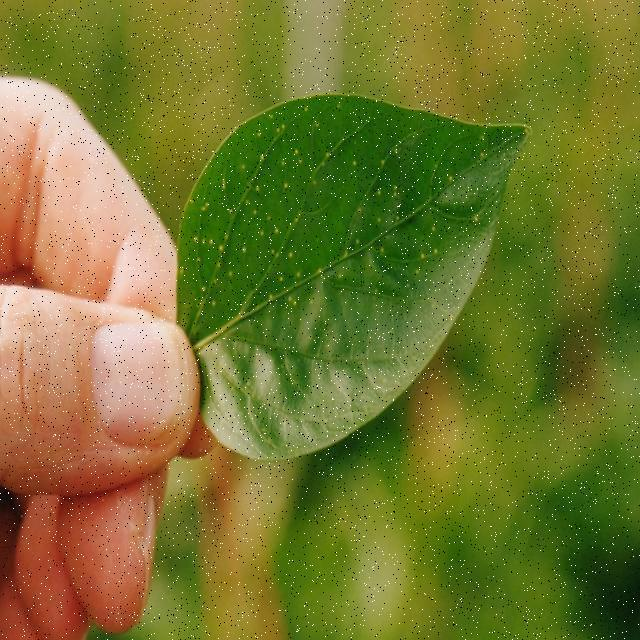Thrips: (143, 95, 563, 427)
